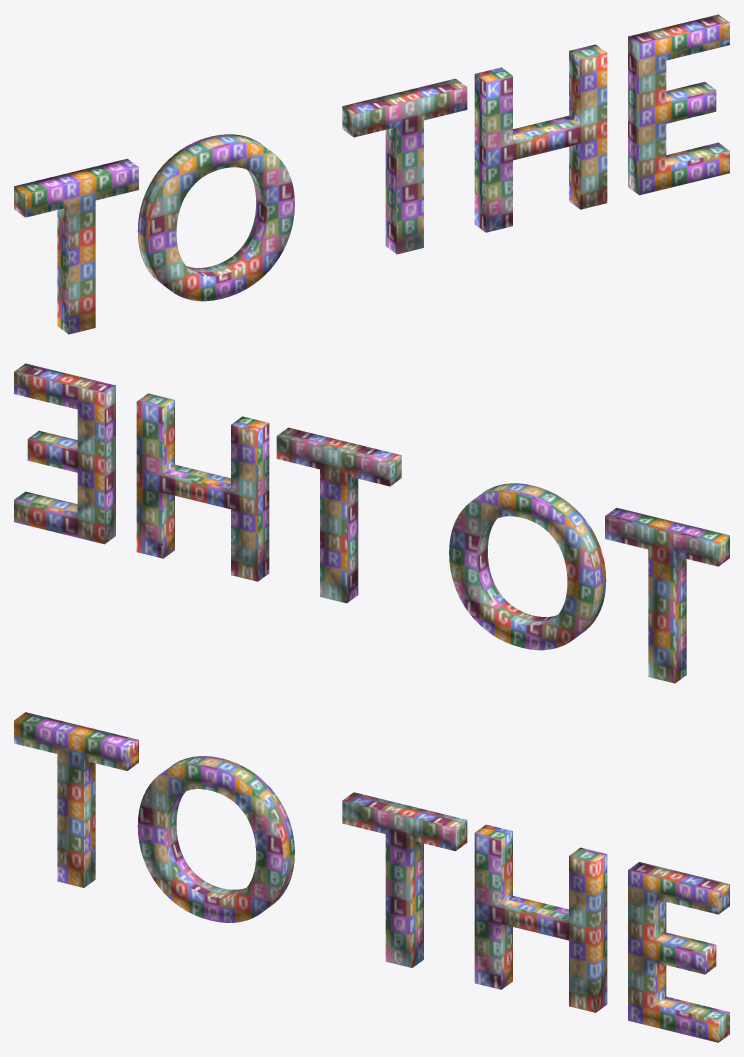
Rendered from to_the.dae.
The picture shows the model from 3 angles, top to bottom: view 1: azimuth 30°, elevation 25°; view 2: azimuth 150°, elevation 25°; view 3: azimuth 330°, elevation 25°; orthographic projection.
Visible parts, largest first — view 1: text2-0; view 2: text2-0; view 3: text2-0.
Part boxes in pixels (x1,y1,x2,y2): text2-0: (14,14,729,334); text2-0: (14,363,729,683); text2-0: (14,712,729,1042).
Size of the model in its own units: 7.09 by 1.48 by 0.2.
